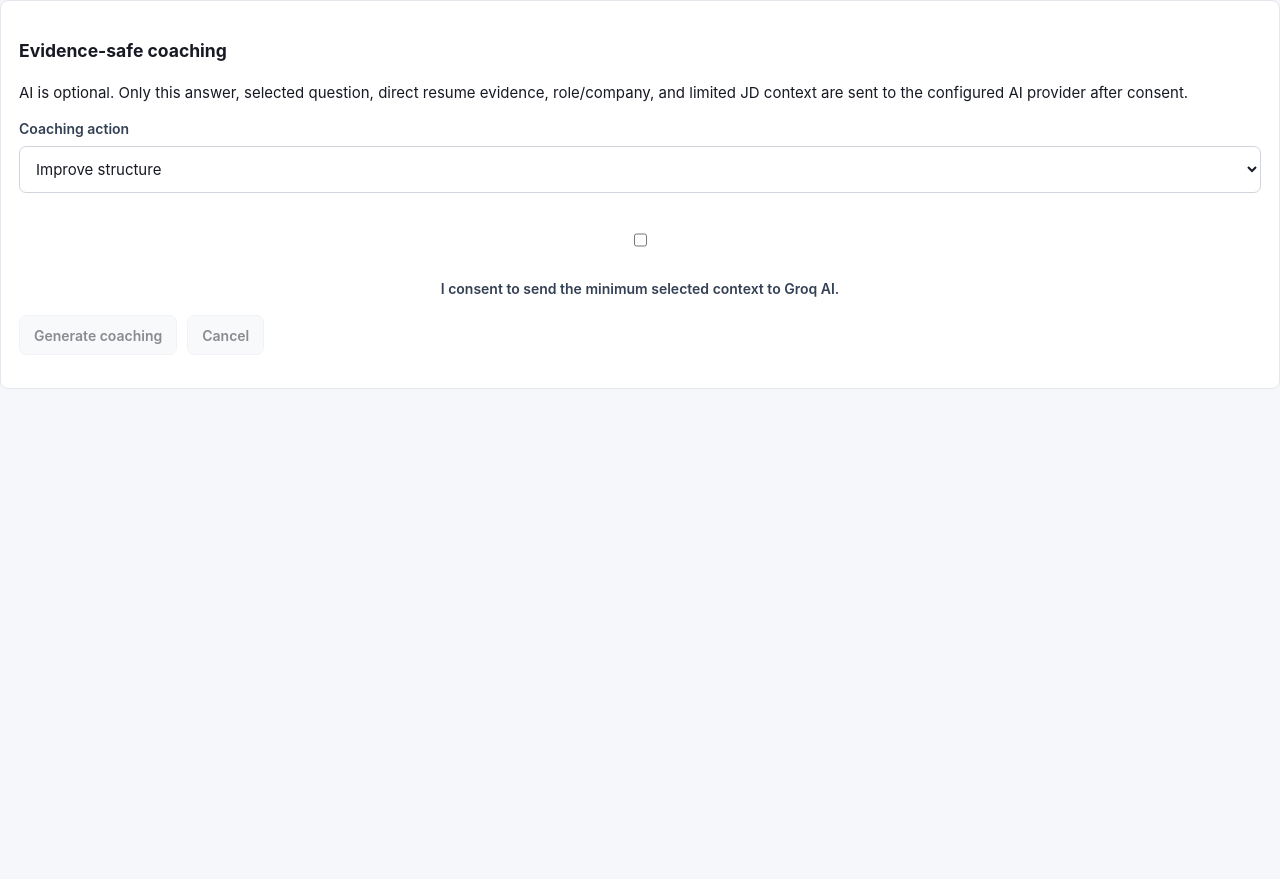
InterviewCoach › keeps consent unchecked and sends only bounded selected context
Click the checkbox labelled "I consent to send the minimum selected context to Groq AI." at (640, 240), box [634,212,647,268]
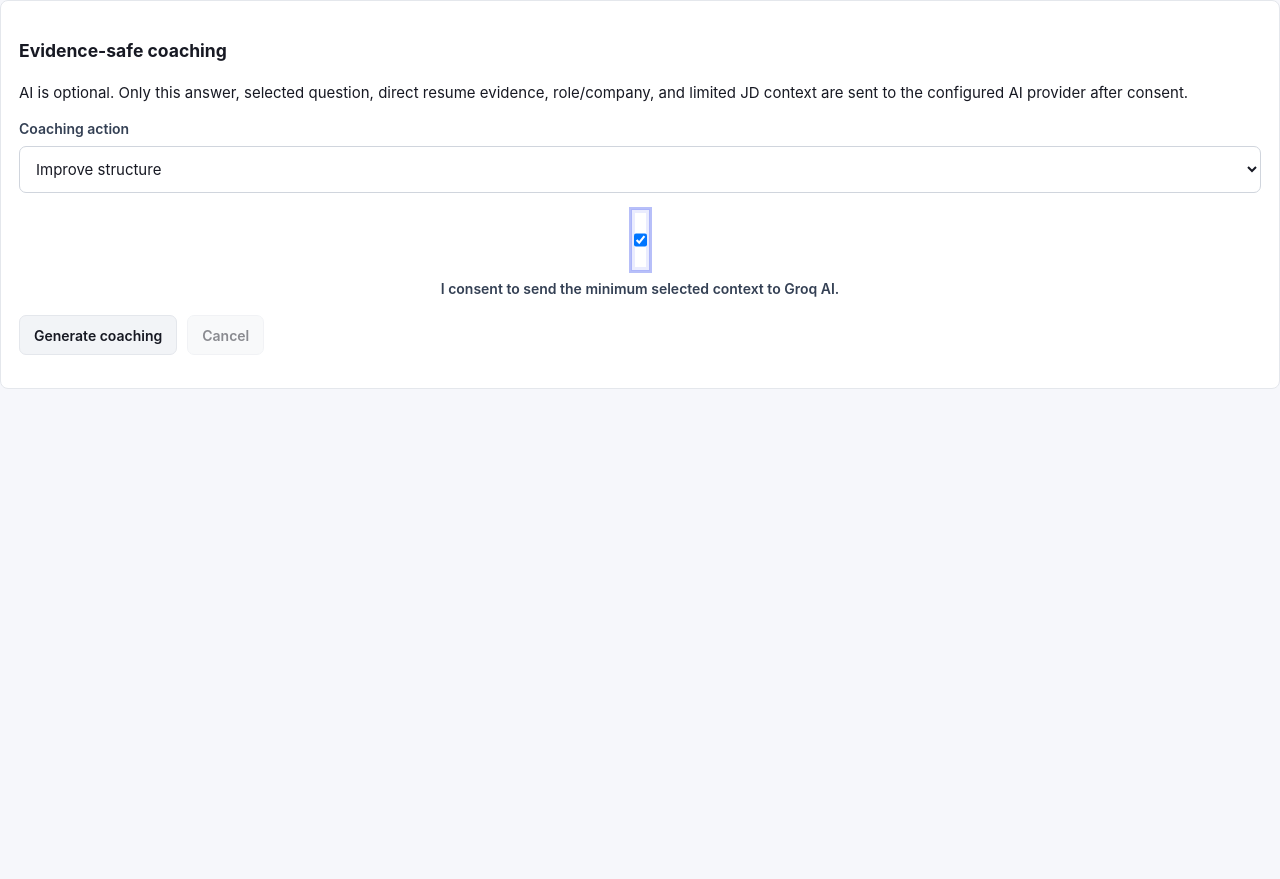
Click the button "Generate coaching" at (98, 335), box [19,315,177,355]
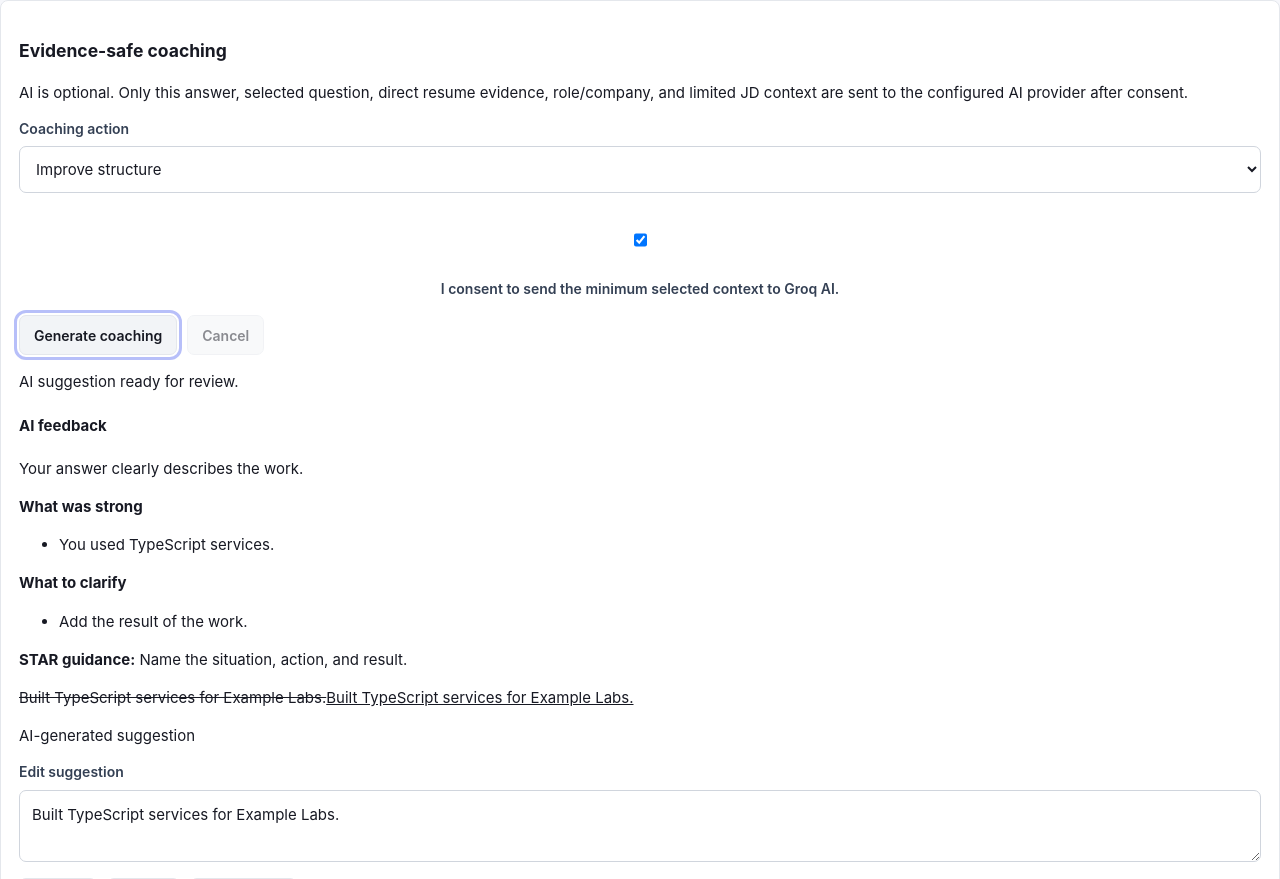
Now the 1st text "Built TypeScript services for Example Labs." is shown, box [19,688,326,707]
